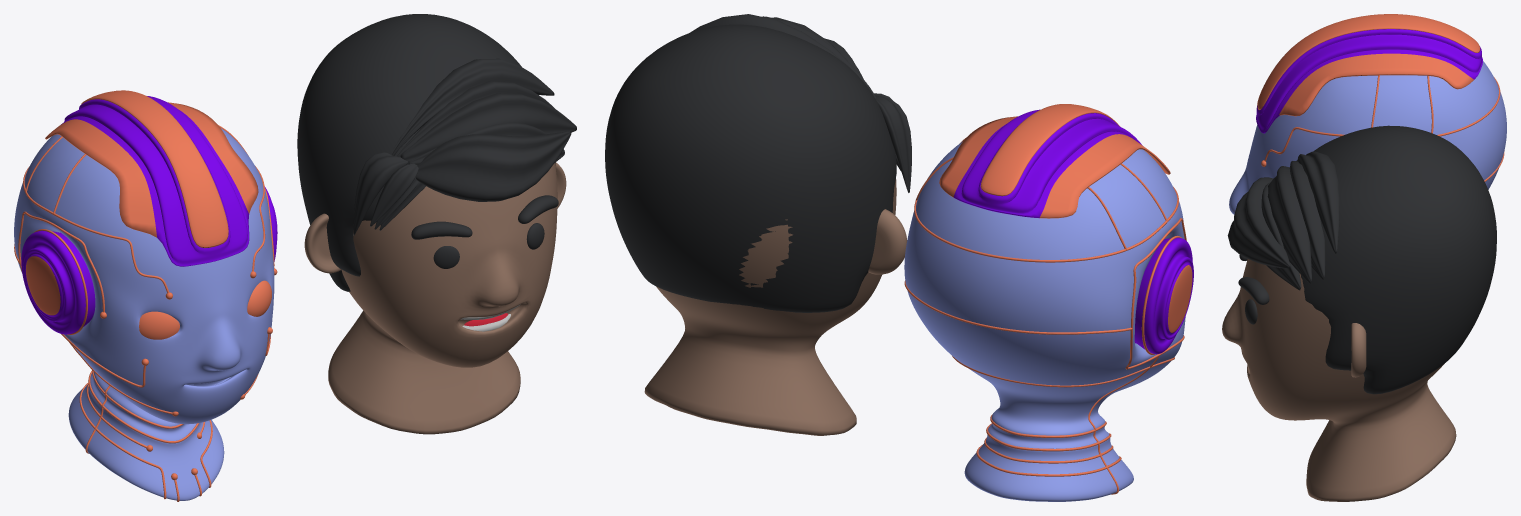
The model's file is ai-human-turing-test-3d-animated-icon-921003109808.glb.
3 renders of one model, left to right at view 1: azimuth 30°, elevation 25°; view 2: azimuth 150°, elevation 25°; view 3: azimuth 270°, elevation 25°, orthographic. The views are drawn at different scales.
Visible parts, largest first — view 1: Cube.032, Hair, Cube.076, Cube.002, Cube.014, Cube.008, Sphere, Cylinder.009, Cube.078, Sphere.008; view 2: Hair, Cube.032, Cube.076, Cube.002, Cube.008, Cube.014, Cylinder.009; view 3: Hair, Cube.076, Cube.032, Cube.002, Cube.014, Cube.008, Cylinder.009, Cube.078.
Boxes of the visible parts, x1,y1,x2,y2 form: Cube.032: (14,128,277,500); Hair: (297,14,576,291); Cube.076: (328,163,557,434); Cube.002: (45,96,258,266); Cube.014: (81,90,228,248); Cube.008: (14,125,277,501); Sphere: (139,280,271,339); Cylinder.009: (304,162,566,273); Cube.078: (411,195,558,239); Sphere.008: (433,223,544,268); Hair: (605,14,911,312); Cube.032: (904,141,1193,501); Cube.076: (644,179,896,435); Cube.002: (939,109,1170,218); Cube.008: (904,137,1186,494); Cube.014: (980,104,1120,196); Cylinder.009: (868,209,907,274); Hair: (1227,125,1496,394); Cube.076: (1222,259,1456,501); Cube.032: (1229,61,1506,214); Cube.002: (1256,29,1482,133); Cube.014: (1257,14,1480,109); Cube.008: (1261,75,1504,181); Cylinder.009: (1351,323,1366,377); Cube.078: (1238,255,1269,304).
Size of what is drawn, in the model's own units: 0.471 by 0.3222 by 0.2382.
